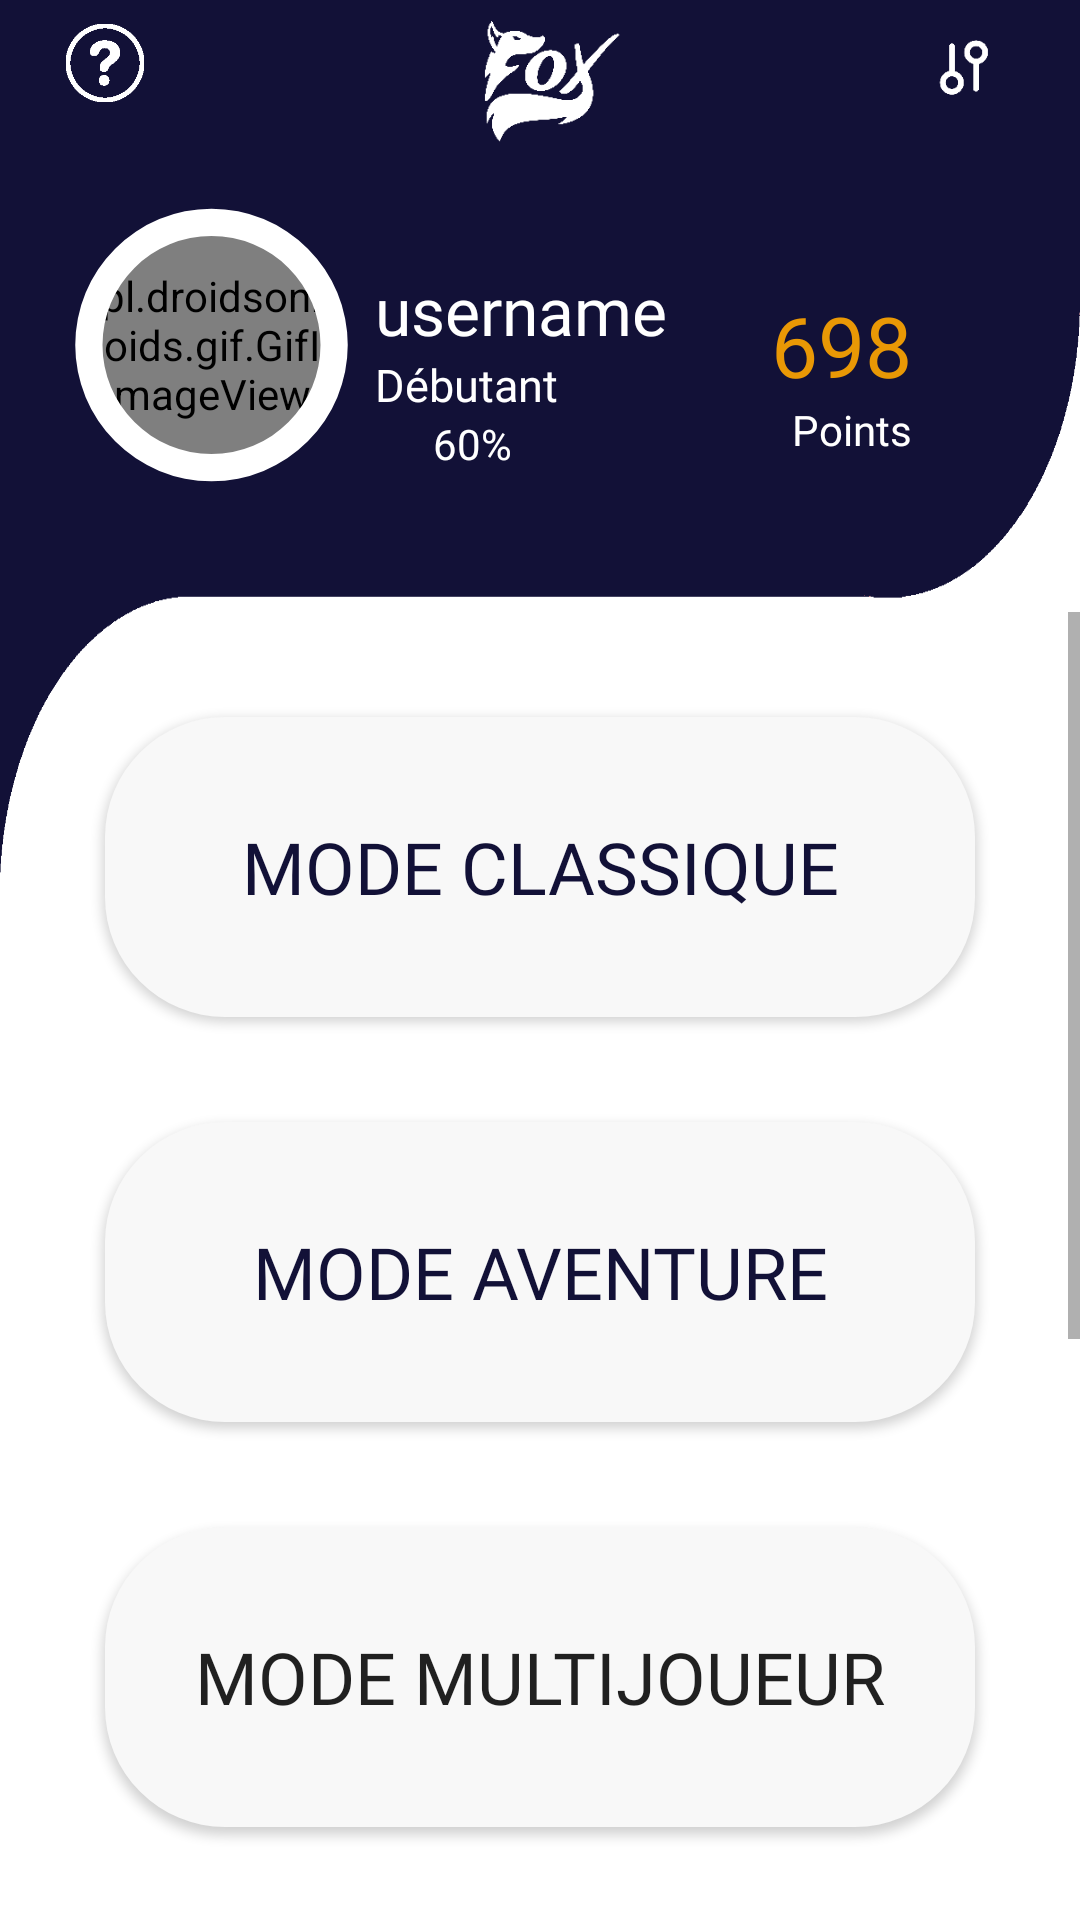

Icon bounding boxes for this 1080x1920 phone screenshot, format [x1, y1, x2, y2]:
settings: [939, 40, 988, 95]
tuto: [66, 24, 144, 102]
